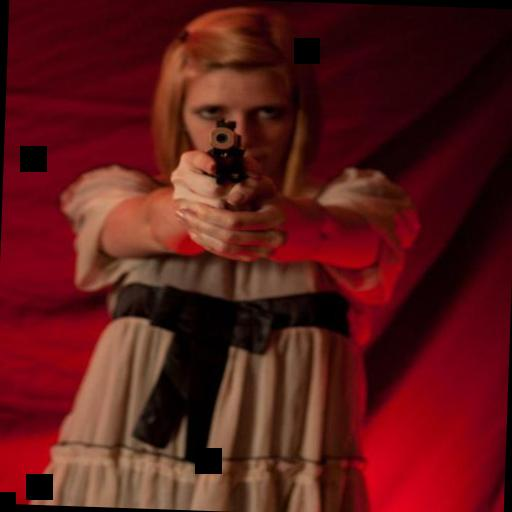Handgun: (198, 115, 260, 190)
